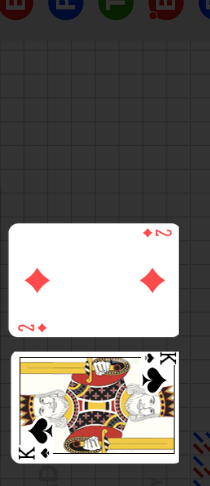2D: (141, 226, 174, 239)
KS: (17, 445, 54, 462)
